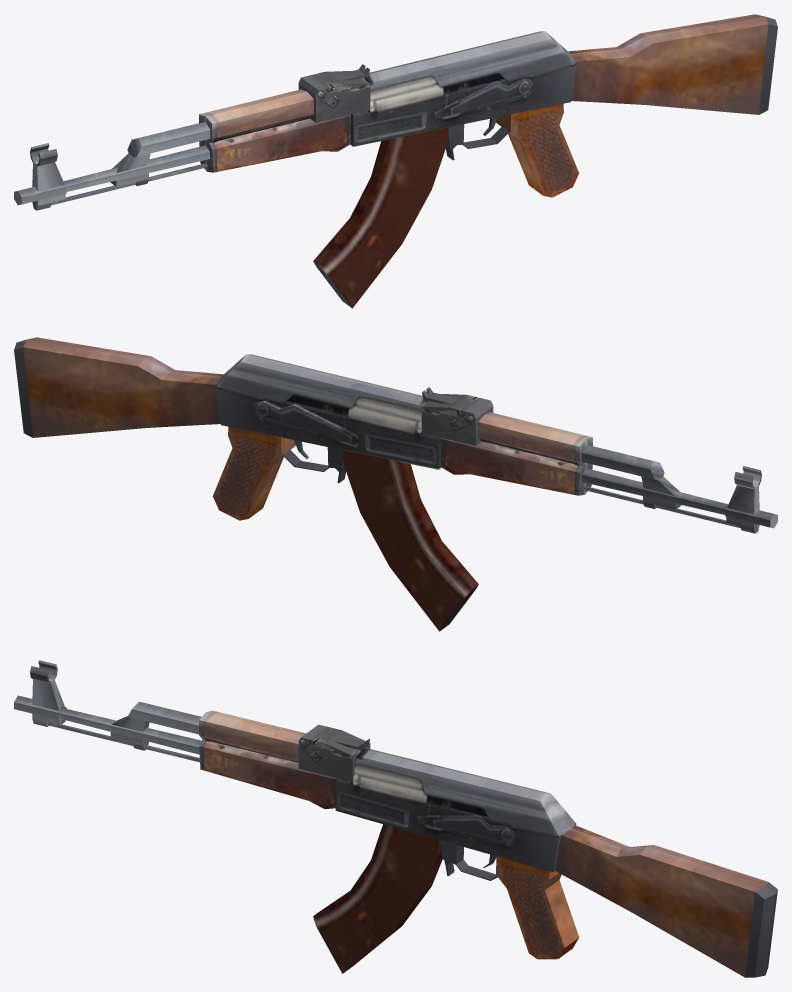
3 renders of one model, top to bottom at view 1: azimuth 30°, elevation 25°; view 2: azimuth 150°, elevation 25°; view 3: azimuth 330°, elevation 25°, orthographic.
Parts seen in each view (by area): view 1: GUN_Material_0; view 2: GUN_Material_0; view 3: GUN_Material_0.
Part boxes in pixels (x1,y1,x2,y2): GUN_Material_0: (14,14,777,308); GUN_Material_0: (14,337,777,631); GUN_Material_0: (14,660,777,977).
Size of the model in its own units: 29.26 by 8.62 by 1.31.
1 material, 1 textured.
